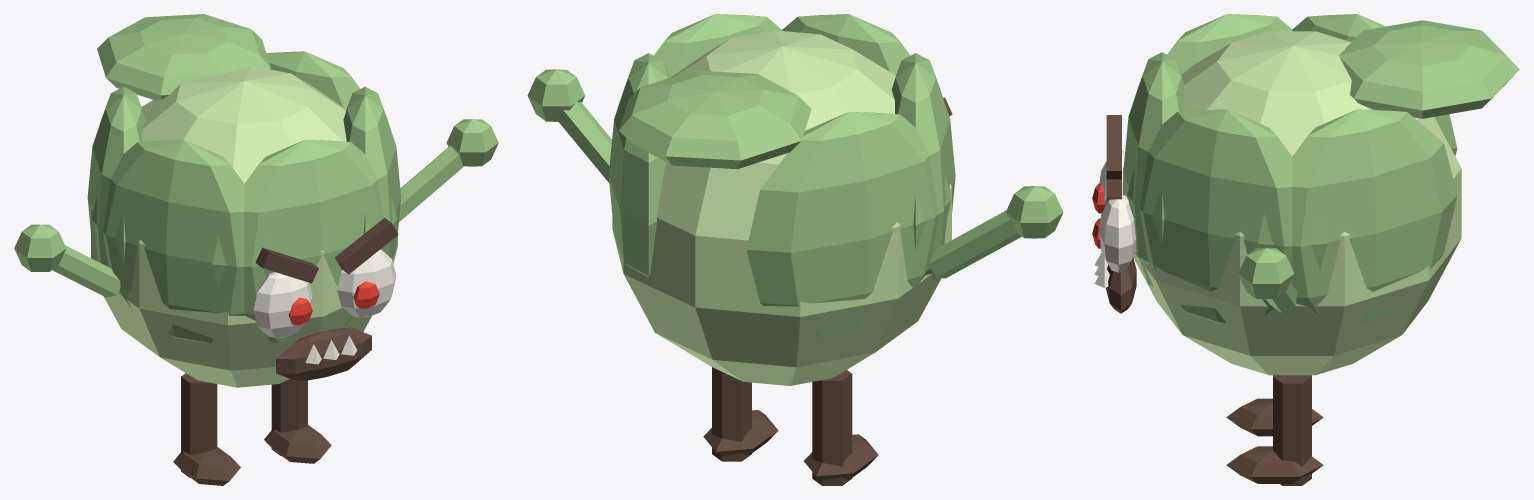
Rendered from MiniCabbage.fbx.
The picture shows the model from 3 angles, left to right: view 1: azimuth 30°, elevation 25°; view 2: azimuth 150°, elevation 25°; view 3: azimuth 270°, elevation 25°; orthographic projection. The views are drawn at different scales.
Visible parts, largest first — view 1: MiniCabbage; view 2: MiniCabbage; view 3: MiniCabbage.
Boxes of the visible parts, x1=… form: MiniCabbage: x1=14, y1=14, x2=498, y2=485; MiniCabbage: x1=527, y1=14, x2=1063, y2=485; MiniCabbage: x1=1092, y1=14, x2=1519, y2=485.
Size of the model in its own units: 1.35 by 1.05 by 0.9852.
